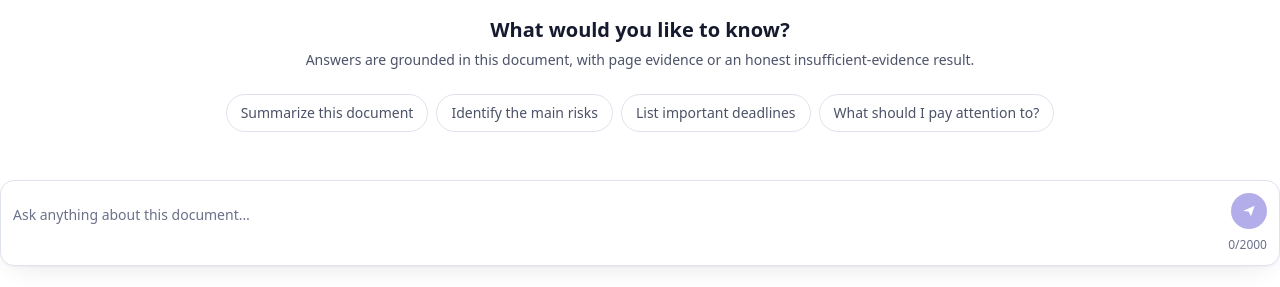
Scenario: AskDocuLens › populates the composer from an example prompt without submitting it
This screenshot has width=1280, height=287.
Expected: the heading "What would you like to know?" is shown, x1=490 y1=16 x2=790 y2=43
Click the button "Identify the main risks" at (525, 113), box x1=436 y1=94 x2=613 y2=132
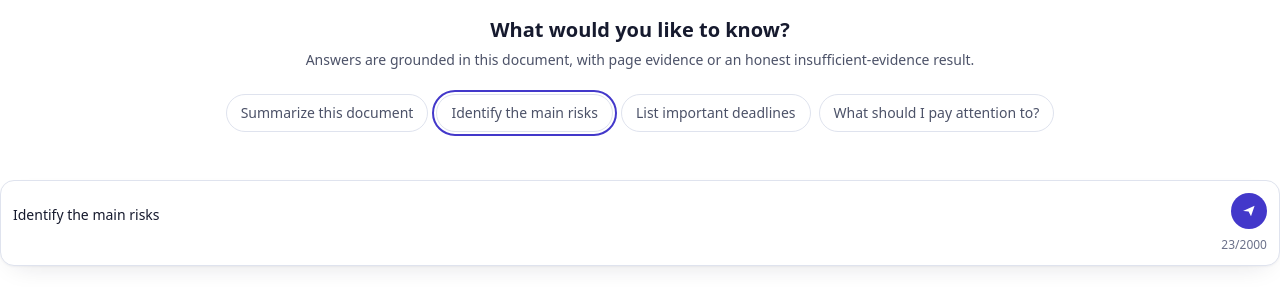
Expected: the heading "What would you like to know?" is shown, x1=490 y1=16 x2=790 y2=43
Expected: the text box named "Ask anything about this document" holds "Identify the main risks", x1=13 y1=201 x2=1223 y2=229
